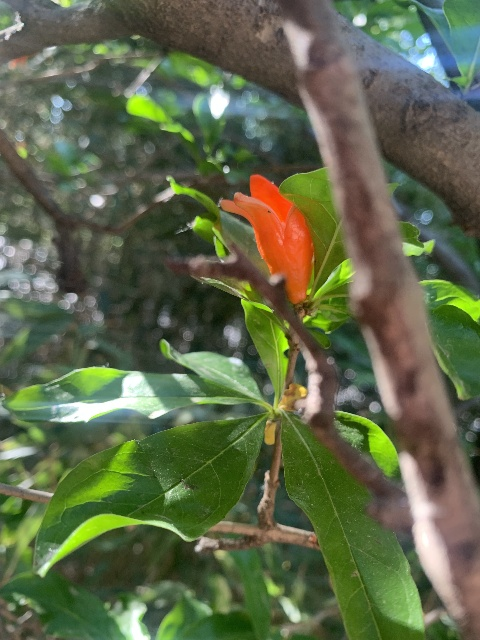flower: (220, 172, 316, 303)
